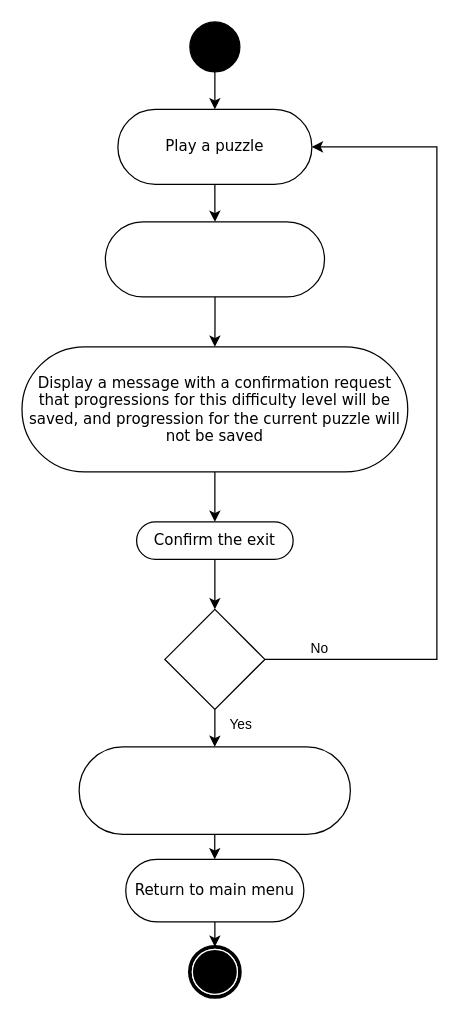
The diagram is 469 pixels wide and 1019 high, and some of its shapes have lost their labels. Each missing label, with the centre of its shape:
Choose the option to exit the current puzzle: pixel 214 259
Display a confirmation message that current progression was saved: pixel 214 790
